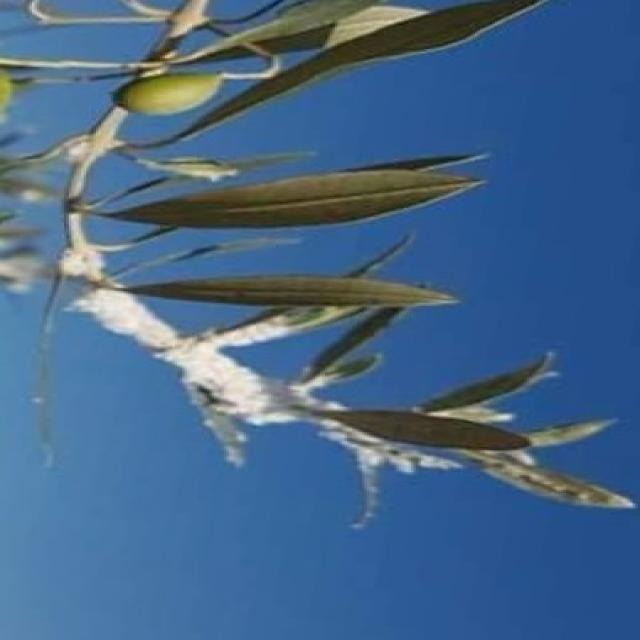Psyllid: (318, 356, 633, 517), (69, 284, 357, 423), (138, 153, 303, 181), (62, 246, 121, 287)
